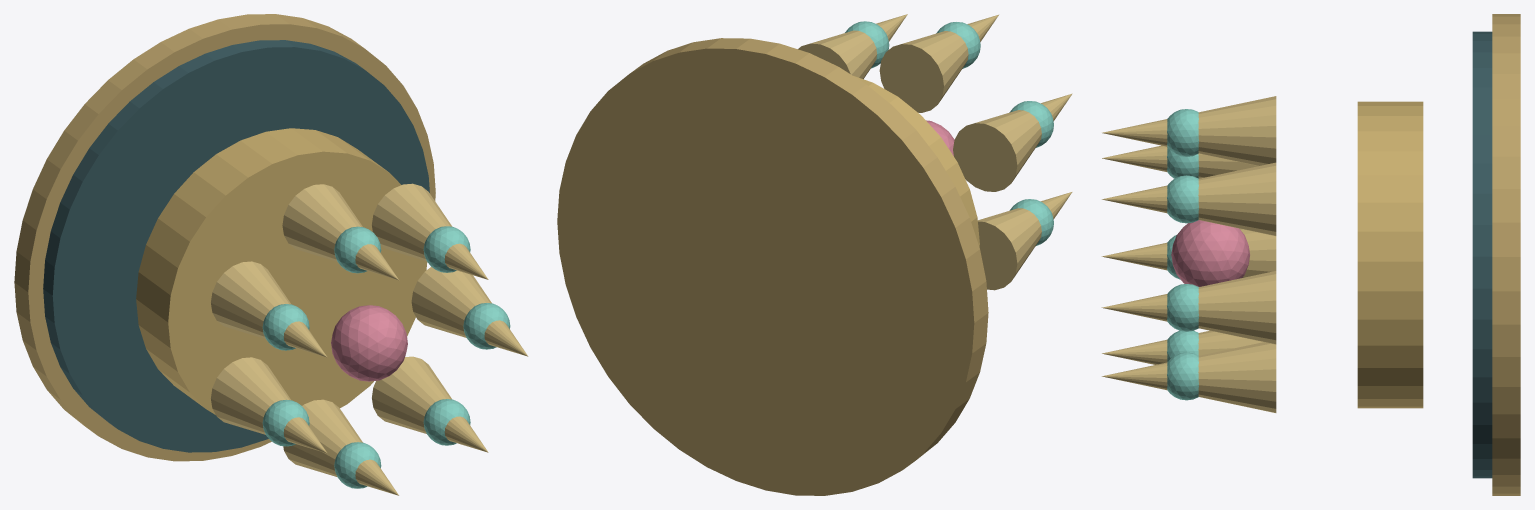
File: royal_crown.glb
3 views of the same model, side by side, from view 1: azimuth 30°, elevation 25°; view 2: azimuth 150°, elevation 25°; view 3: azimuth 270°, elevation 25° (orthographic). The views are drawn at different scales.
Visible parts, largest first — view 1: obsidian-plinth, crown-ring, gold-plinth, prong-2, prong-3, prong-4, prong-1, royal-top, prong-6, prong-0, prong-5, gem-5 (+6 smaller); view 2: gold-plinth, prong-3, prong-2, prong-4, prong-1, crown-ring, gem-4, gem-3, gem-2, gem-1; view 3: crown-ring, gold-plinth, obsidian-plinth, prong-0, prong-1, prong-6, prong-2, royal-top, prong-4, prong-5, prong-3, gem-2 (+5 smaller).
Part boxes in pixels (bbox=[...]): obsidian-plinth: bbox=[43, 40, 429, 452]; crown-ring: bbox=[136, 128, 427, 414]; gold-plinth: bbox=[14, 14, 435, 461]; prong-2: bbox=[282, 184, 398, 280]; prong-3: bbox=[211, 261, 327, 357]; prong-4: bbox=[211, 357, 327, 453]; prong-1: bbox=[372, 183, 488, 279]; royal-top: bbox=[331, 305, 407, 381]; prong-6: bbox=[372, 356, 488, 452]; prong-0: bbox=[411, 267, 528, 356]; prong-5: bbox=[283, 399, 398, 495]; gem-5: bbox=[334, 442, 381, 488]; gold-plinth: bbox=[557, 38, 988, 495]; prong-3: bbox=[953, 93, 1072, 191]; prong-2: bbox=[879, 14, 998, 112]; prong-4: bbox=[977, 192, 1072, 290]; prong-1: bbox=[798, 14, 907, 79]; crown-ring: bbox=[854, 76, 979, 246]; gem-4: bbox=[1009, 199, 1053, 245]; gem-3: bbox=[1009, 101, 1053, 147]; gem-2: bbox=[936, 22, 980, 68]; gem-1: bbox=[845, 21, 889, 68]; crown-ring: bbox=[1357, 101, 1423, 408]; gold-plinth: bbox=[1492, 14, 1520, 495]; obsidian-plinth: bbox=[1472, 31, 1492, 478]; prong-0: bbox=[1101, 271, 1276, 344]; prong-1: bbox=[1102, 162, 1276, 236]; prong-6: bbox=[1102, 342, 1276, 412]; prong-2: bbox=[1102, 96, 1276, 165]; royal-top: bbox=[1171, 220, 1249, 286]; prong-4: bbox=[1101, 228, 1276, 277]; prong-5: bbox=[1102, 330, 1263, 364]; prong-3: bbox=[1102, 145, 1258, 178]; gem-2: bbox=[1167, 109, 1198, 156].
Bounding box in the file's own units: 2.2 × 2.2 × 1.91.
